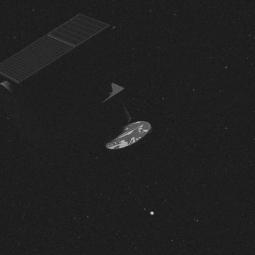cheops: (0, 16, 169, 151)
